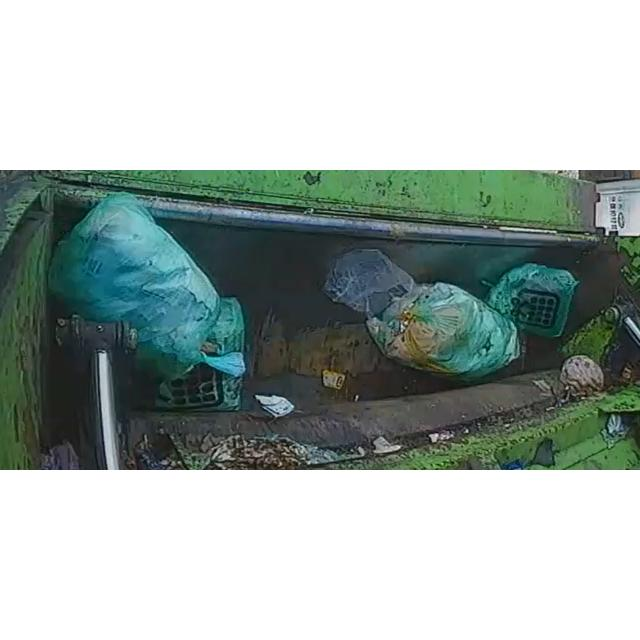general_trashbag: (49, 194, 244, 380), (325, 250, 520, 379), (156, 298, 245, 411), (486, 264, 579, 337)
